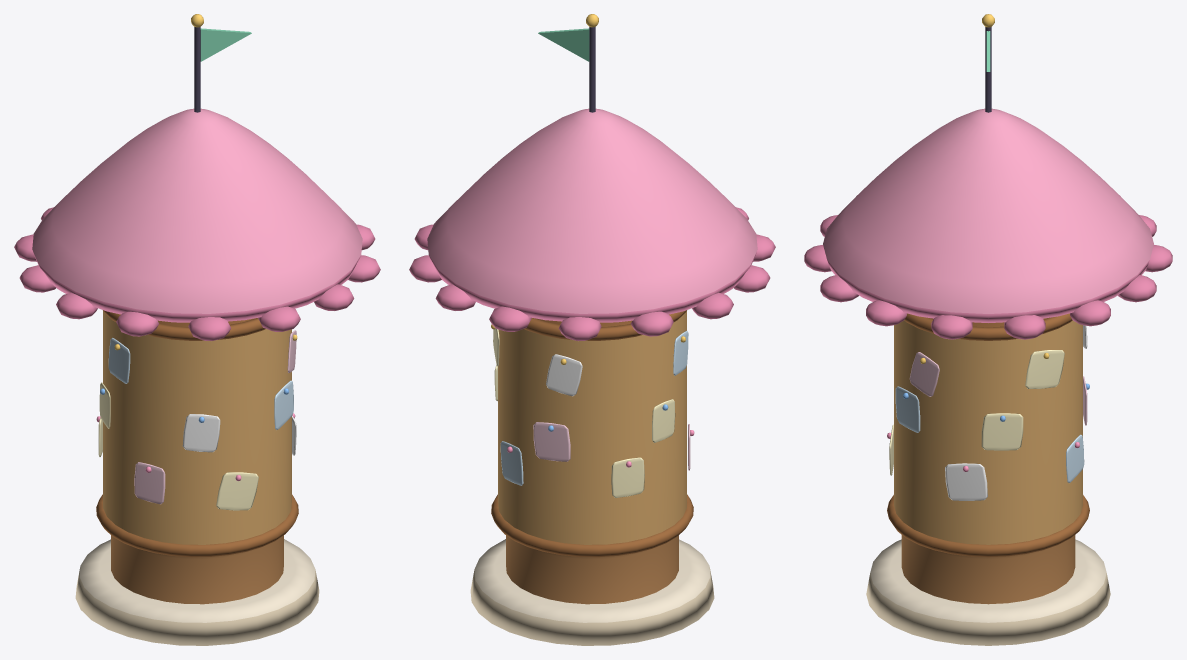
The model's file is kiosk.glb.
3 renders of one model, left to right at view 1: azimuth 30°, elevation 25°; view 2: azimuth 150°, elevation 25°; view 3: azimuth 270°, elevation 25°, orthographic.
Parts seen in each view (by area): view 1: kiosk; view 2: kiosk; view 3: kiosk.
Boxes of the visible parts, x1,y1,x2,y2 form: kiosk: [14, 14, 380, 645]; kiosk: [409, 14, 775, 645]; kiosk: [804, 14, 1172, 645].
Bounding box in the file's own units: 1.84 × 3.24 × 1.87.
1 material, 1 textured.
